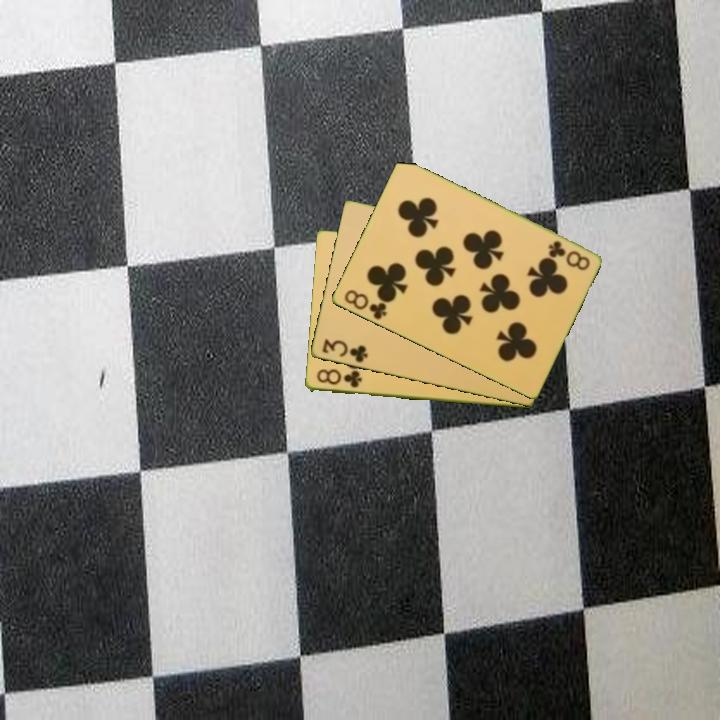3c: (318, 336, 371, 366)
8c: (340, 286, 389, 323), (544, 237, 593, 274), (313, 366, 364, 391)
